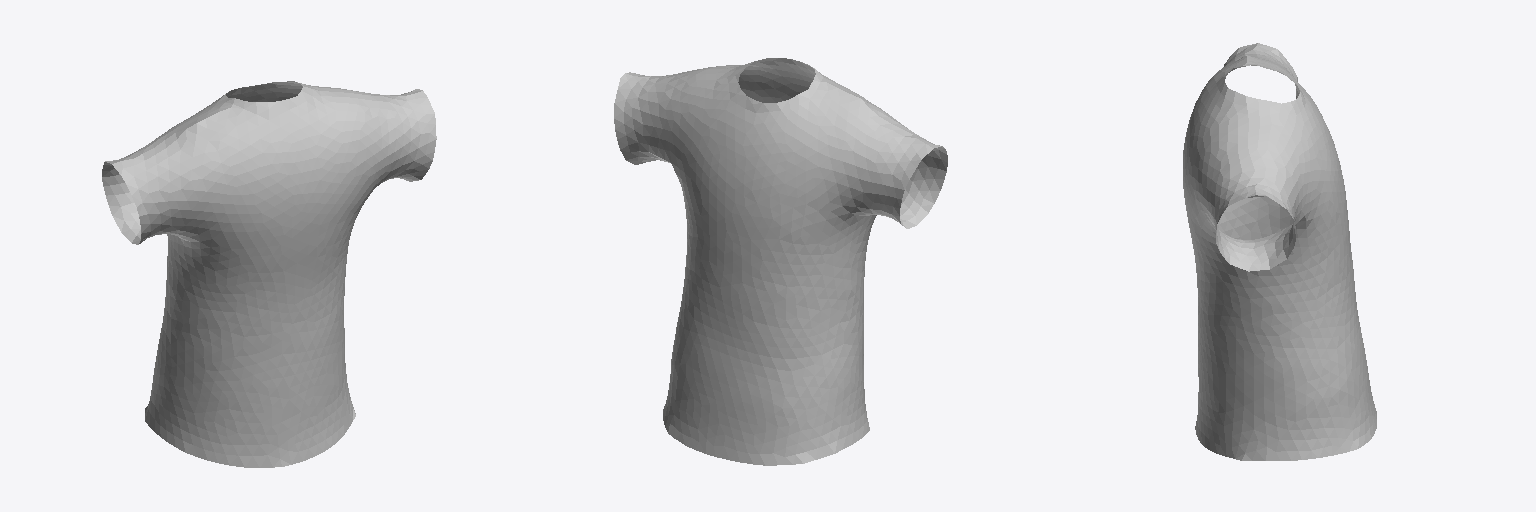
File: tshirt1900.obj
3 views of the same model, side by side, from view 1: azimuth 30°, elevation 25°; view 2: azimuth 150°, elevation 25°; view 3: azimuth 270°, elevation 25° (orthographic).
Visible parts, largest first — view 1: tshirt1900; view 2: tshirt1900; view 3: tshirt1900.
Part boxes in pixels (bbox=[...]): tshirt1900: bbox=[102, 81, 436, 467]; tshirt1900: bbox=[614, 58, 947, 465]; tshirt1900: bbox=[1183, 43, 1376, 460].
Size of the model in its own units: 10.47 by 11.38 by 5.7.